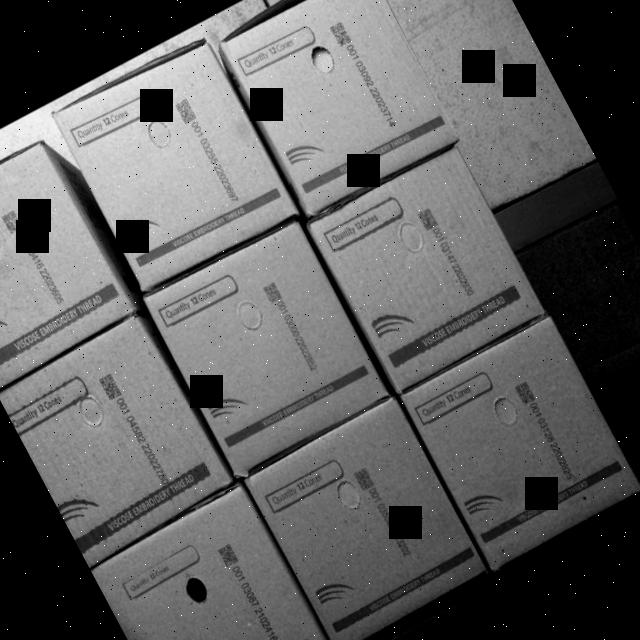box: (140, 215, 396, 486), (53, 33, 304, 296), (236, 392, 493, 640), (308, 144, 550, 399), (398, 317, 640, 570), (0, 313, 238, 565), (217, 0, 457, 215), (87, 482, 337, 640), (0, 131, 140, 392)
